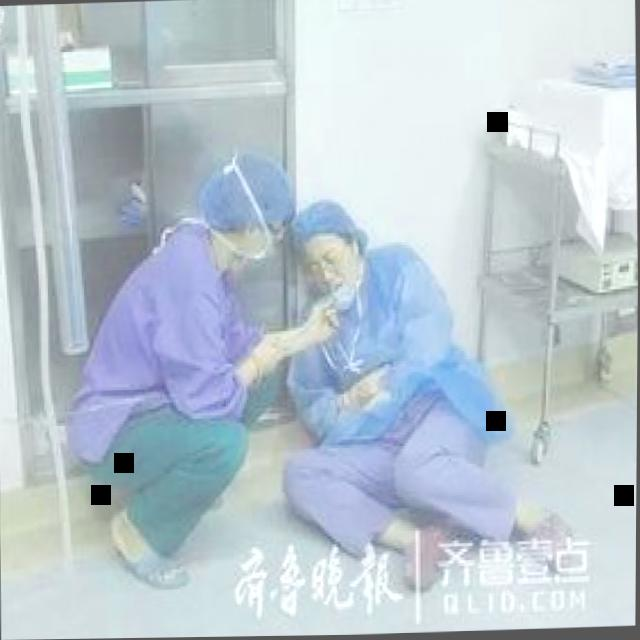Fall-Detected: (253, 170, 582, 593)
